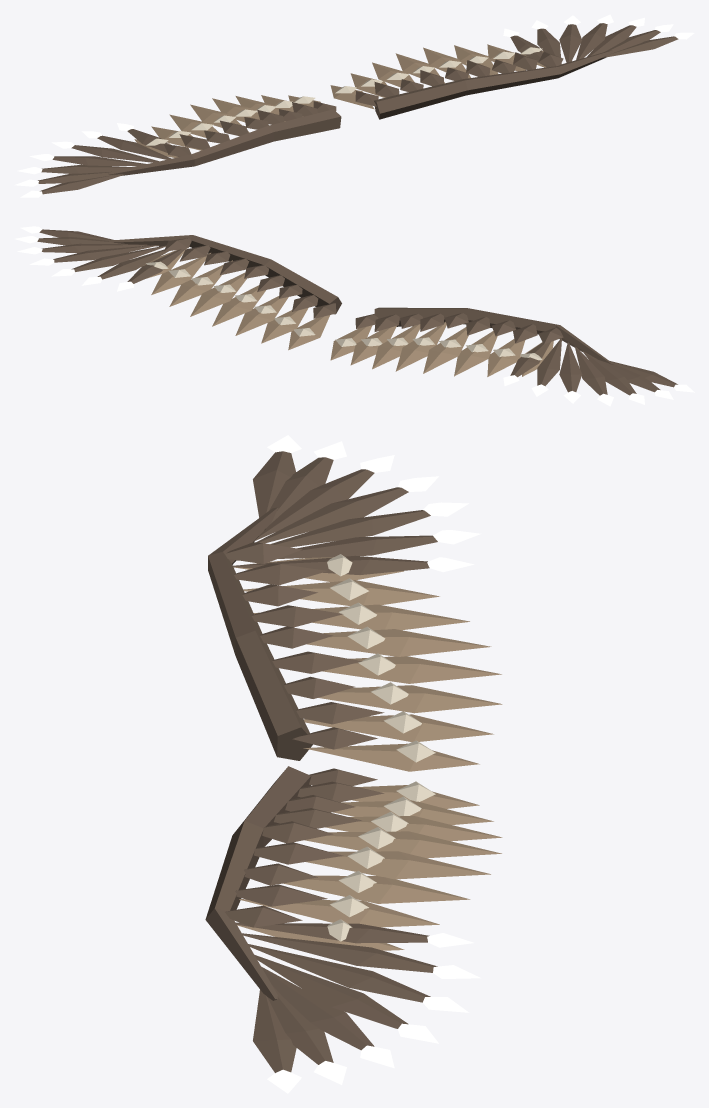
Rendered from wings.glb.
The picture shows the model from 3 angles, top to bottom: view 1: azimuth 30°, elevation 25°; view 2: azimuth 150°, elevation 25°; view 3: azimuth 270°, elevation 25°; orthographic projection. The views are drawn at different scales.
Visible parts, largest first — view 1: wing_l, wing_r; view 2: wing_l, wing_r; view 3: wing_r, wing_l.
Part boxes in pixels (x1,y1,x2,y2): wing_l: (330,14,694,119); wing_r: (14,95,341,197); wing_l: (15,226,341,350); wing_r: (330,307,694,406); wing_r: (208,435,502,771); wing_l: (205,766,502,1093).
Size of the model in its own units: 1.76 by 0.074 by 0.3361.
